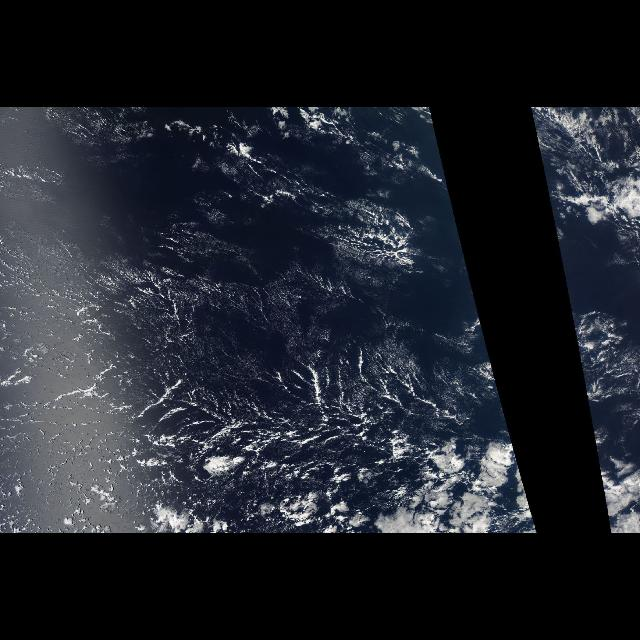Gravel: (74, 269, 430, 459)
Sugar: (4, 200, 406, 494)
